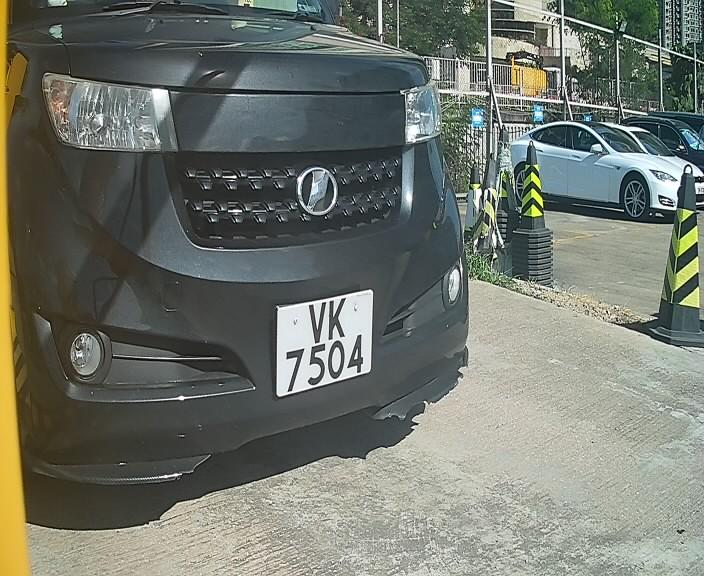License Plate: (265, 283, 381, 407)
